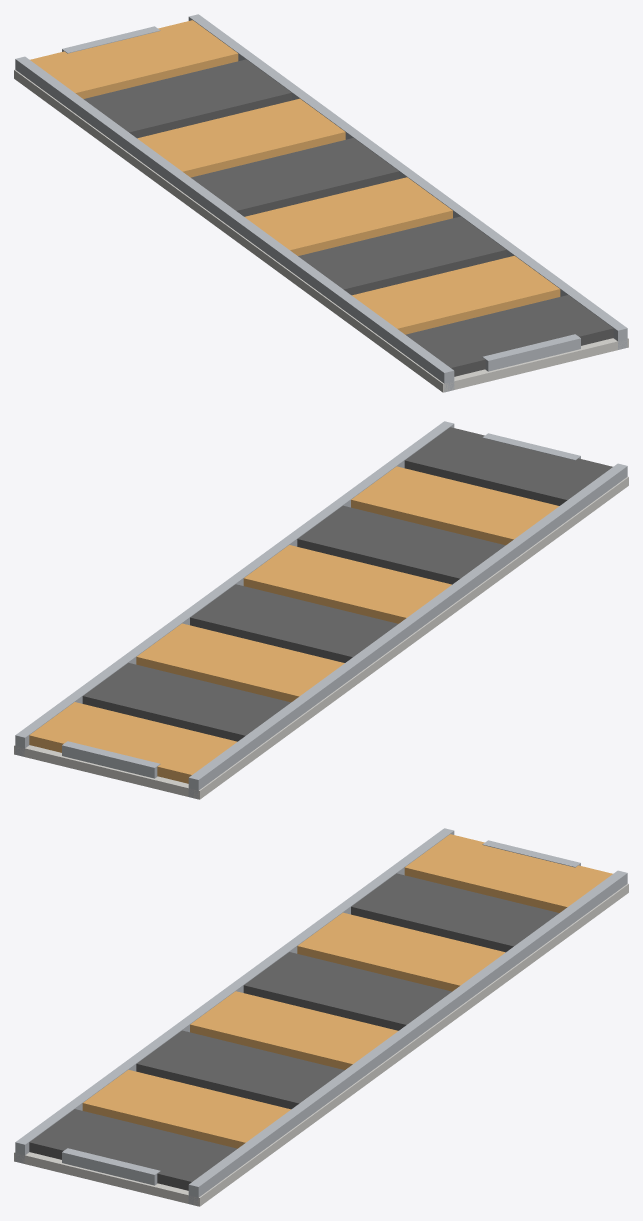
The picture shows the model from 3 angles, top to bottom: view 1: azimuth 30°, elevation 25°; view 2: azimuth 150°, elevation 25°; view 3: azimuth 330°, elevation 25°; orthographic projection.
Visible parts, largest first — view 1: zebra_yellow, zebra_black, rails, pad; view 2: zebra_black, zebra_yellow, rails, pad; view 3: zebra_yellow, zebra_black, rails, pad.
Part boxes in pixels (left/top/right/bottom): zebra_yellow: left=30, top=20, right=560, bottom=334; zebra_black: left=83, top=59, right=613, bottom=376; rails: left=15, top=14, right=627, bottom=392; pad: left=14, top=69, right=628, bottom=392; zebra_black: left=82, top=427, right=612, bottom=741; zebra_yellow: left=29, top=466, right=559, bottom=783; rails: left=15, top=421, right=627, bottom=798; pad: left=14, top=476, right=628, bottom=799; zebra_yellow: left=82, top=834, right=612, bottom=1148; zebra_black: left=29, top=873, right=559, bottom=1190; rails: left=15, top=828, right=627, bottom=1205; pad: left=14, top=883, right=628, bottom=1206.
Size of the model in its own units: 1.5 by 0.15 by 6.
